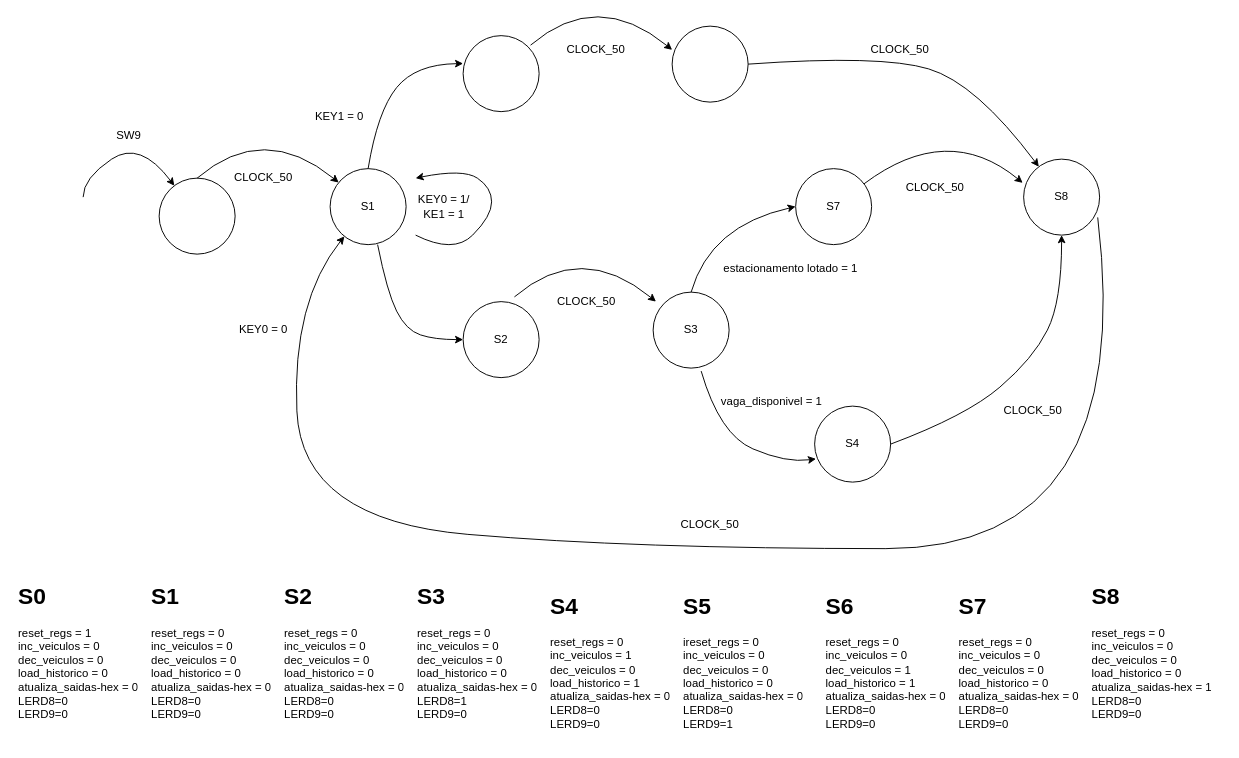
The diagram is 1239 pixels wide and 758 high, and some of its shapes have lost their labels. Each missing label, with the centre of its shape:
"S0" belongs at (196,215).
"S5" belongs at (500,73).
"S6" belongs at (709,63).
